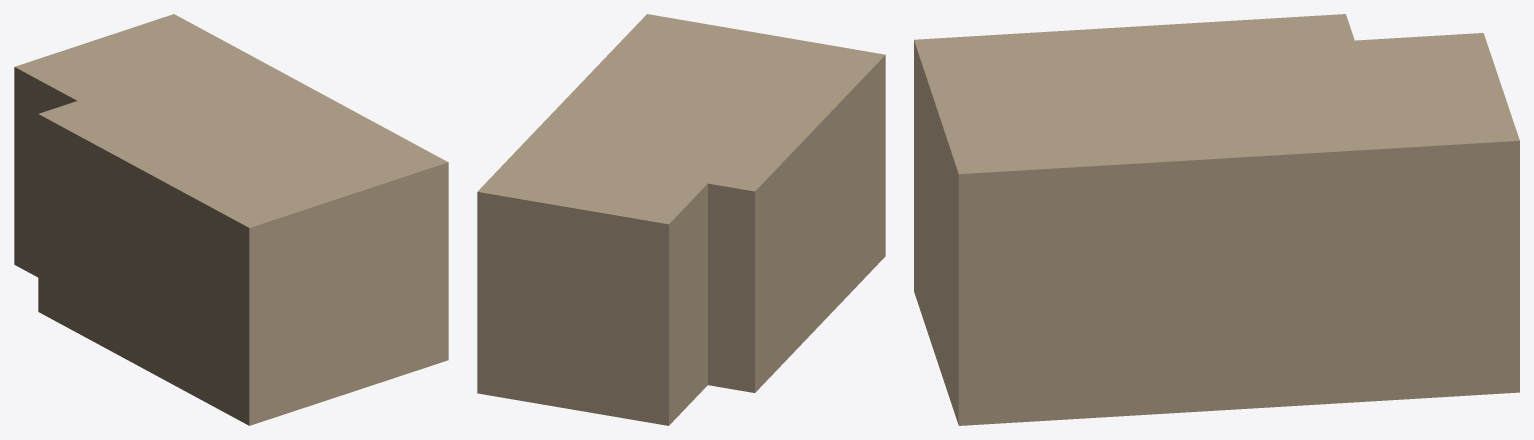
File: bld_109034815.dae
3 views of the same model, side by side, from view 1: azimuth 30°, elevation 25°; view 2: azimuth 150°, elevation 25°; view 3: azimuth 270°, elevation 25° (orthographic). The views are drawn at different scales.
Parts seen in each view (by area): view 1: bld_109034815; view 2: bld_109034815; view 3: bld_109034815.
Part boxes in pixels (box(x1,y1,x2,y2)): bld_109034815: box(14, 14, 448, 425); bld_109034815: box(477, 14, 885, 425); bld_109034815: box(914, 14, 1519, 425).
Bounding box in the file's own units: 10.92 × 17.45 × 8.
